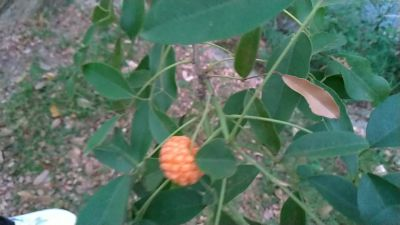eggs: (160, 135, 202, 184)
